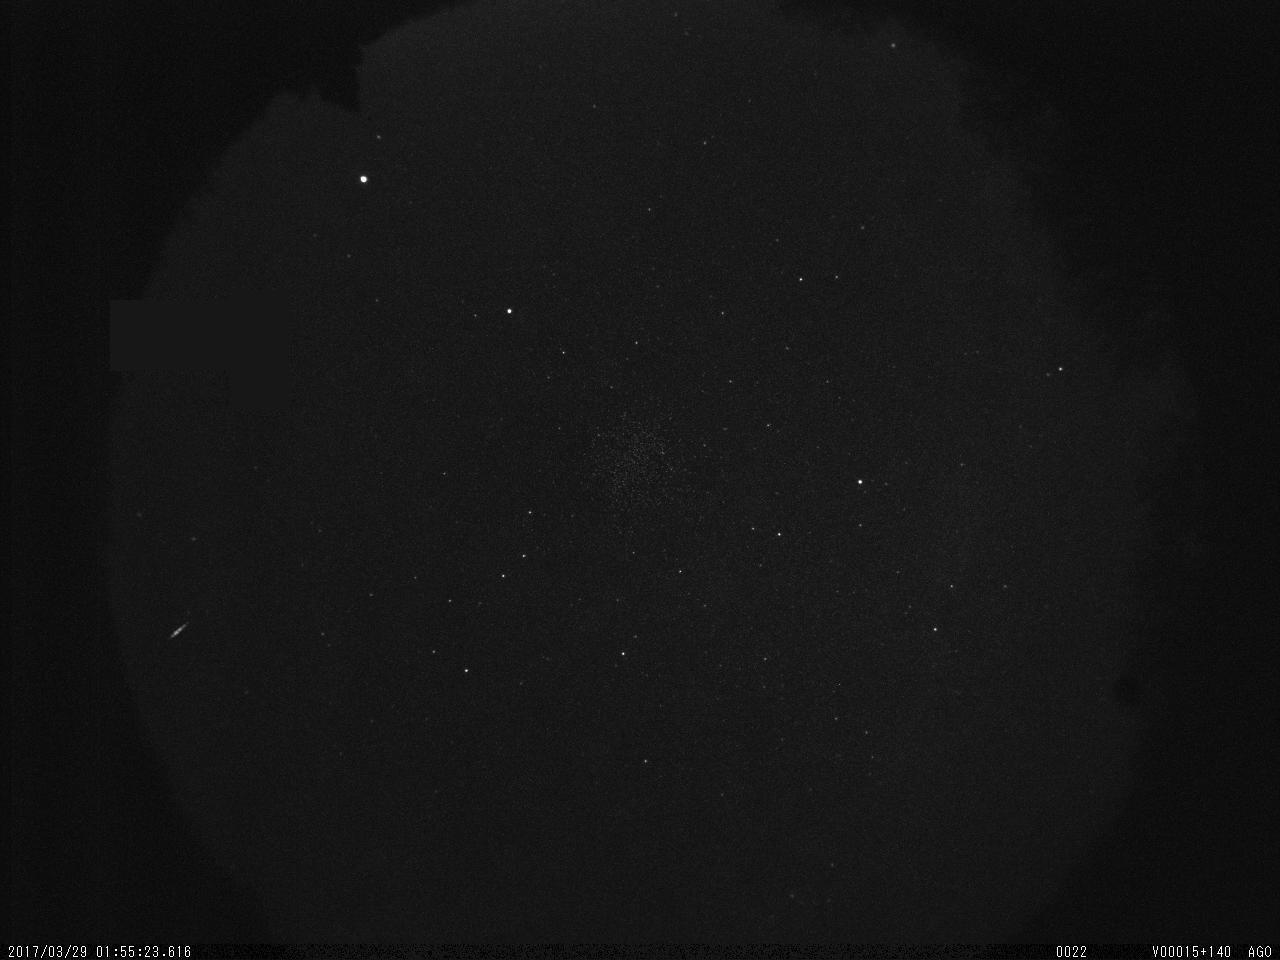meteor: (162, 613, 195, 647)
